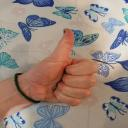ThumbsUp: (22, 25, 96, 110)
